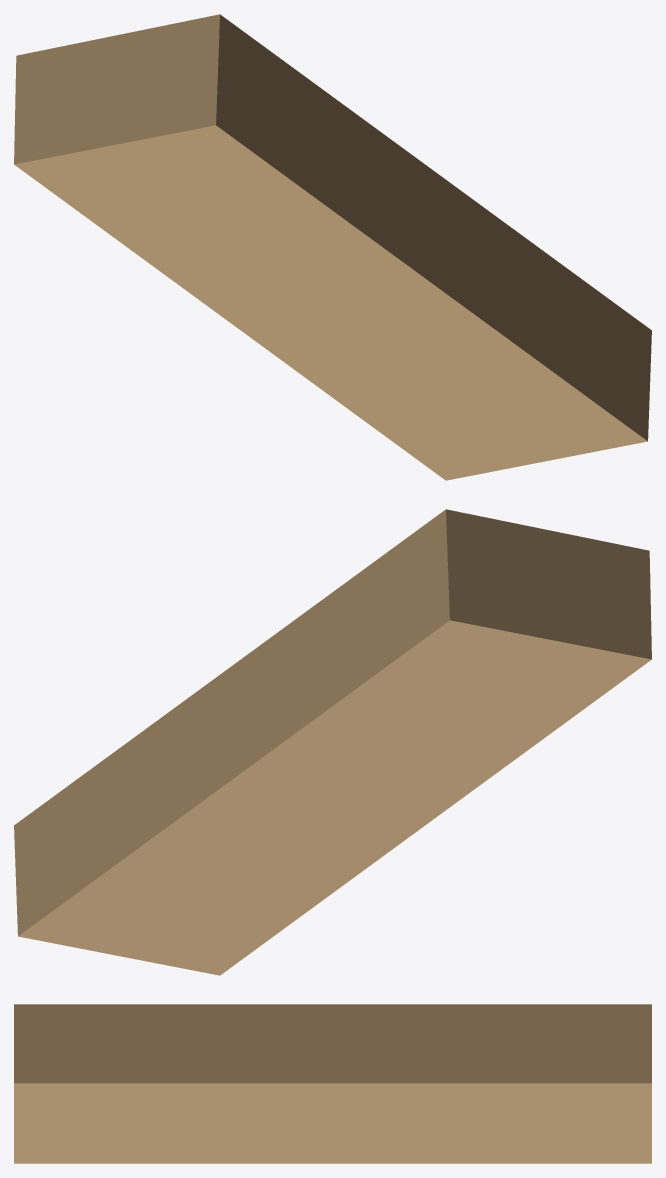
The picture shows the model from 3 angles, top to bottom: view 1: azimuth 30°, elevation 25°; view 2: azimuth 150°, elevation 25°; view 3: azimuth 270°, elevation 25°; orthographic projection. The views are drawn at different scales.
Visible parts, largest first — view 1: 0_2_3_2_3_3_2_3_1_2; view 2: 0_2_3_2_3_3_2_3_1_2; view 3: 0_2_3_2_3_3_2_3_1_2.
Boxes of the visible parts, x1=… form: 0_2_3_2_3_3_2_3_1_2: x1=14, y1=14, x2=651, y2=480; 0_2_3_2_3_3_2_3_1_2: x1=14, y1=509, x2=651, y2=975; 0_2_3_2_3_3_2_3_1_2: x1=14, y1=1004, x2=651, y2=1163.
Bounding box in the file's own units: 7.44 × 4.08 × 27.
